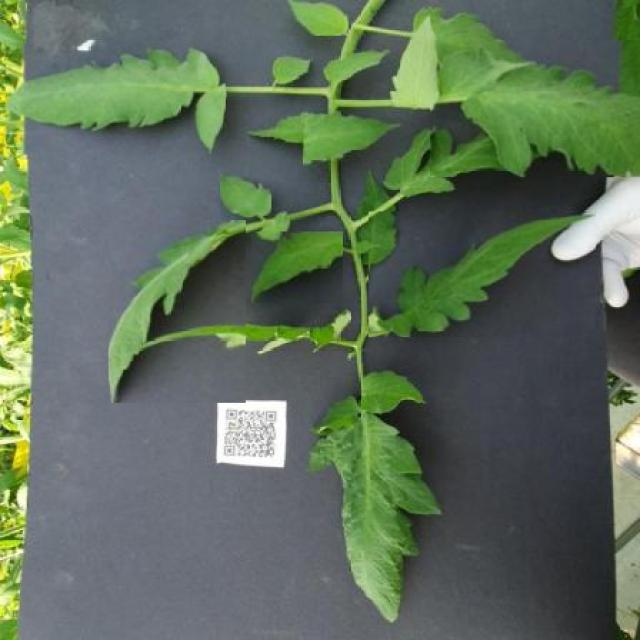Healthy: (306, 369, 443, 626), (430, 40, 640, 177), (368, 212, 596, 337), (110, 220, 246, 402), (5, 44, 226, 155), (251, 231, 343, 303), (286, 0, 348, 36), (220, 174, 272, 216)
